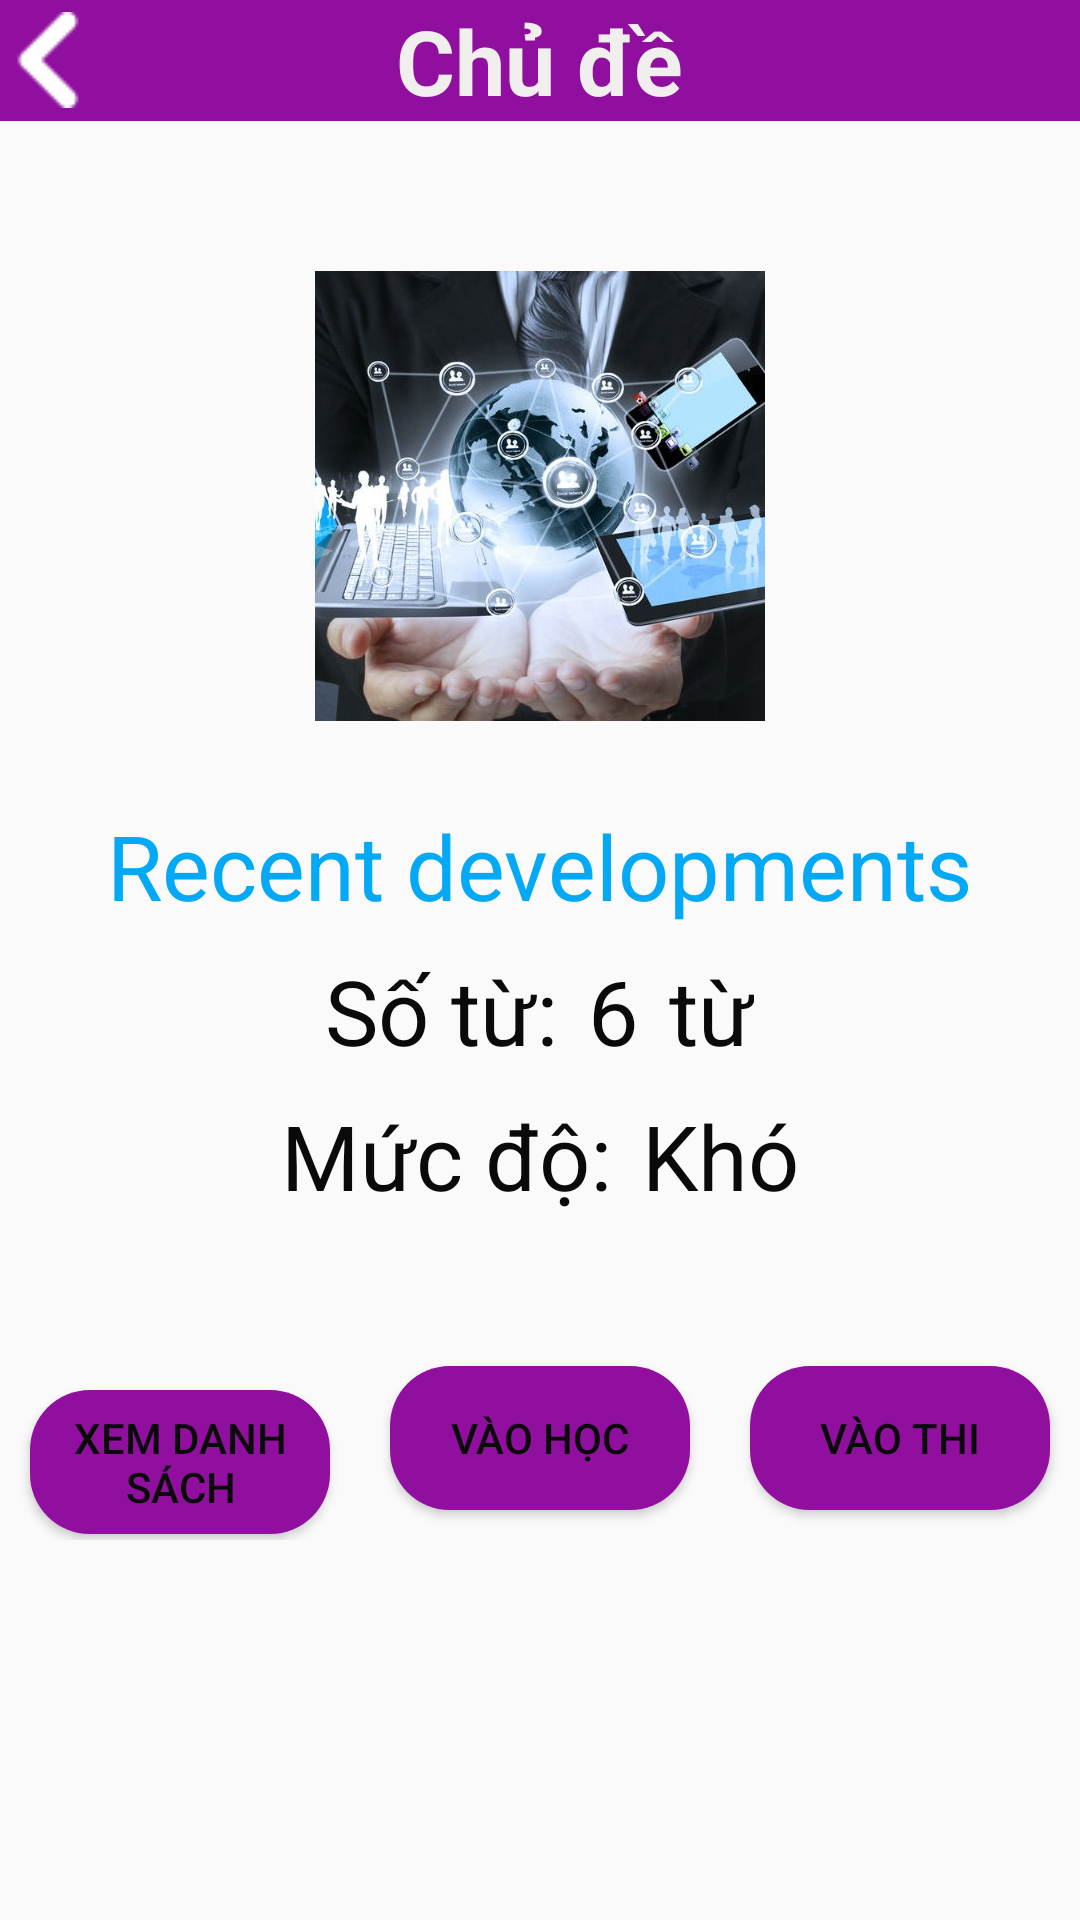

Where icons sit on this 1080*1920 app screen, as bbox=[x1, y1, x2, y2]:
backk trang: bbox=[17, 12, 79, 108]
